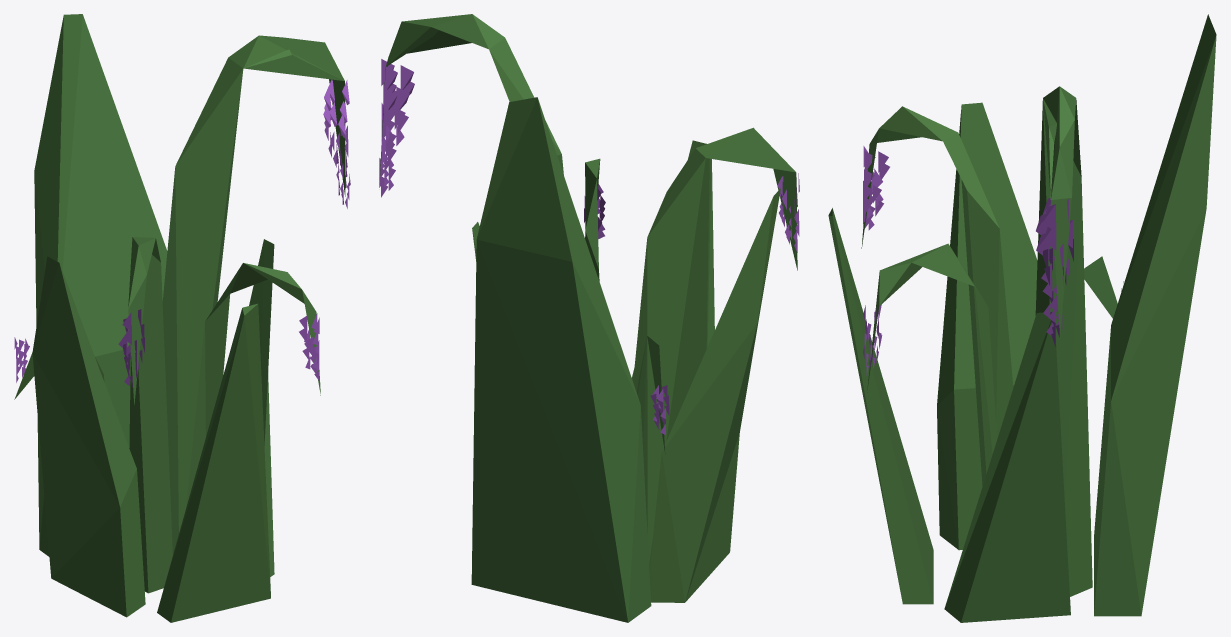
Rendered from flower_03.glb.
The picture shows the model from 3 angles, left to right: view 1: azimuth 30°, elevation 25°; view 2: azimuth 150°, elevation 25°; view 3: azimuth 270°, elevation 25°; orthographic projection. The views are drawn at different scales.
Parts seen in each view (by area): view 1: Object_102, Object_103; view 2: Object_102, Object_103; view 3: Object_102, Object_103.
Boxes of the visible parts, x1,y1,x2,y2 form: Object_102: (14, 14, 345, 622); Object_103: (14, 80, 350, 387); Object_102: (379, 14, 797, 622); Object_103: (379, 59, 799, 435); Object_102: (828, 14, 1216, 622); Object_103: (863, 146, 1123, 375).
Size of the model in its own units: 1.24 by 1.78 by 1.13.
